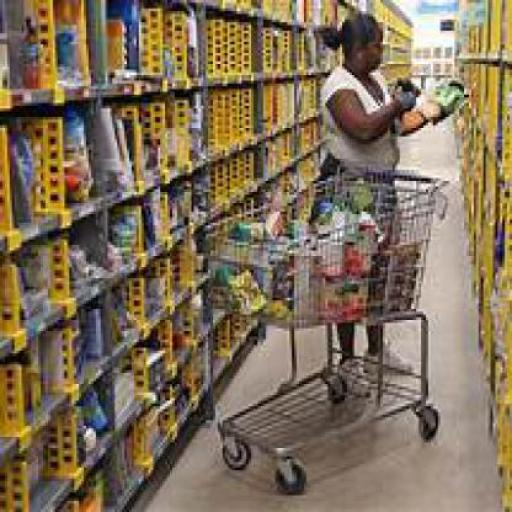shopping_cart: (203, 168, 451, 494)
